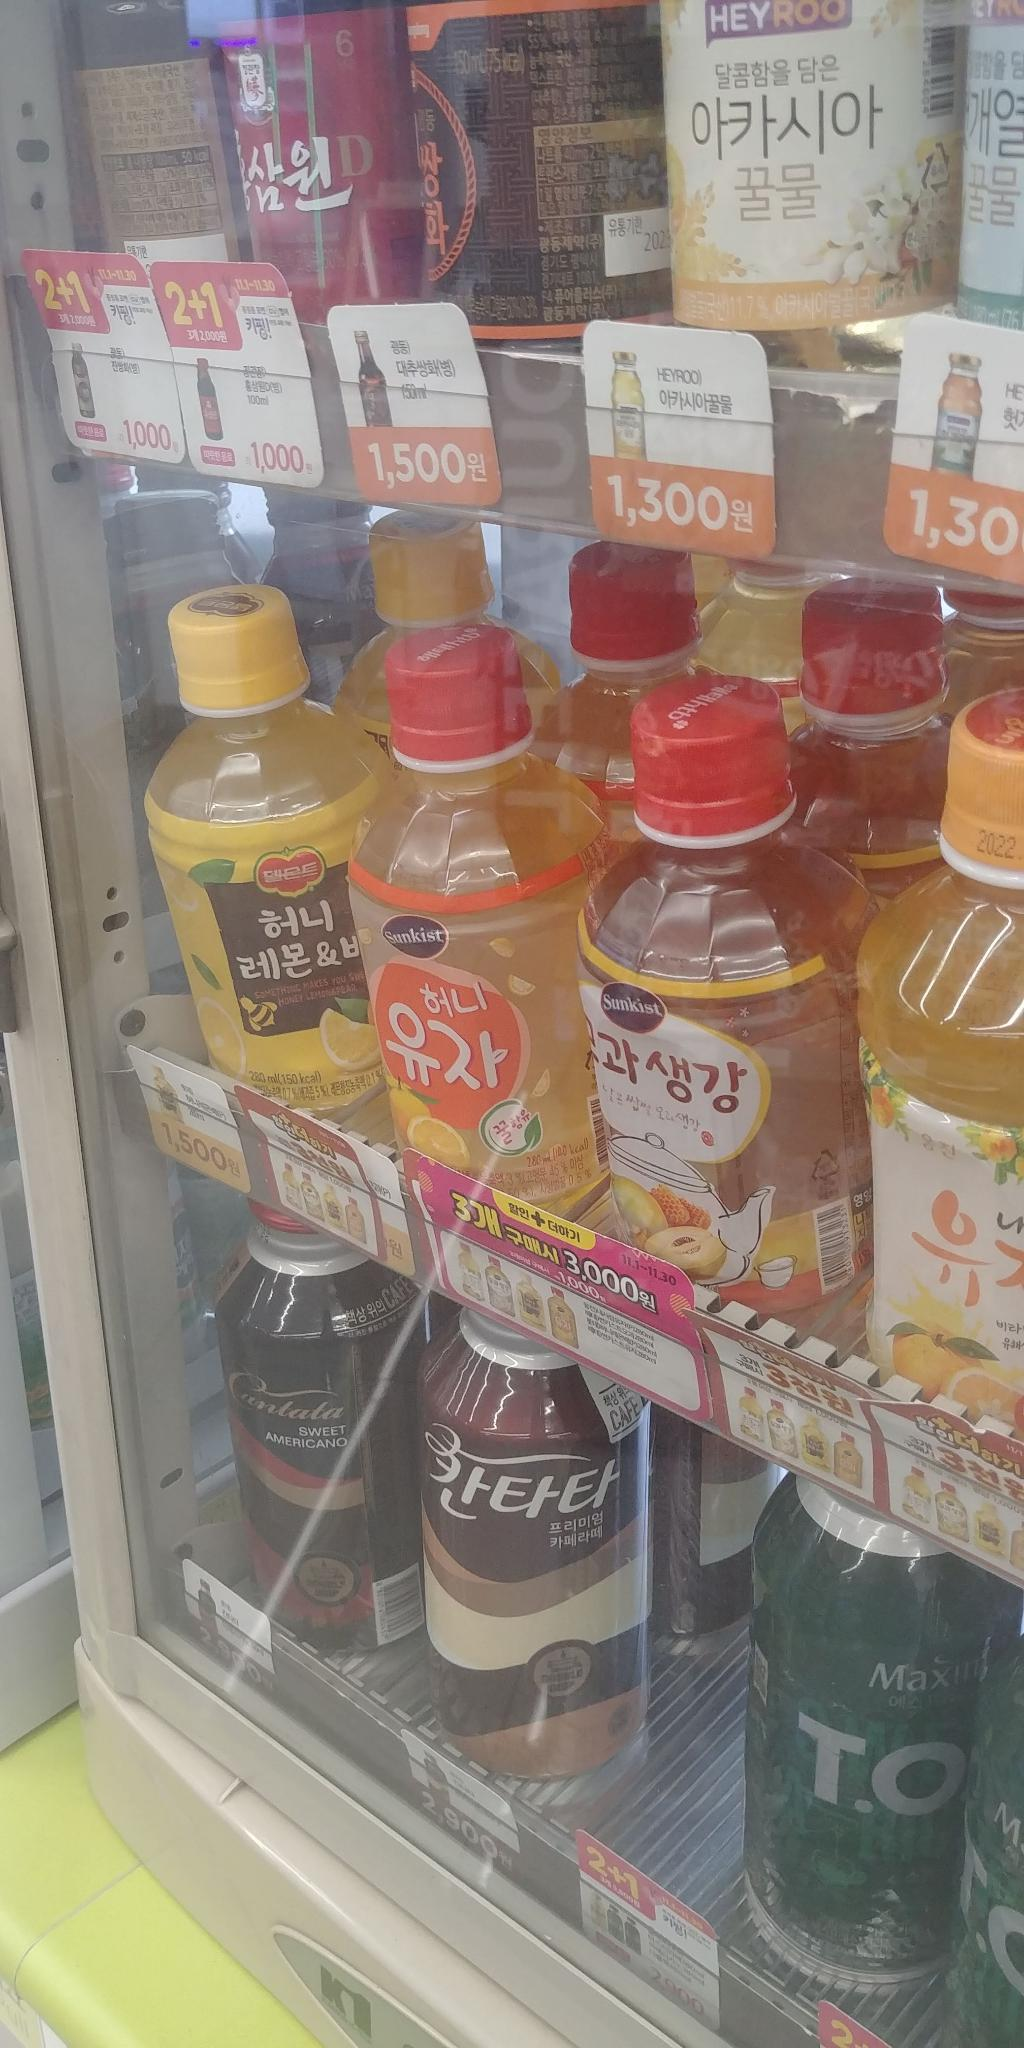honeyyuja: (324, 610, 623, 1240)
